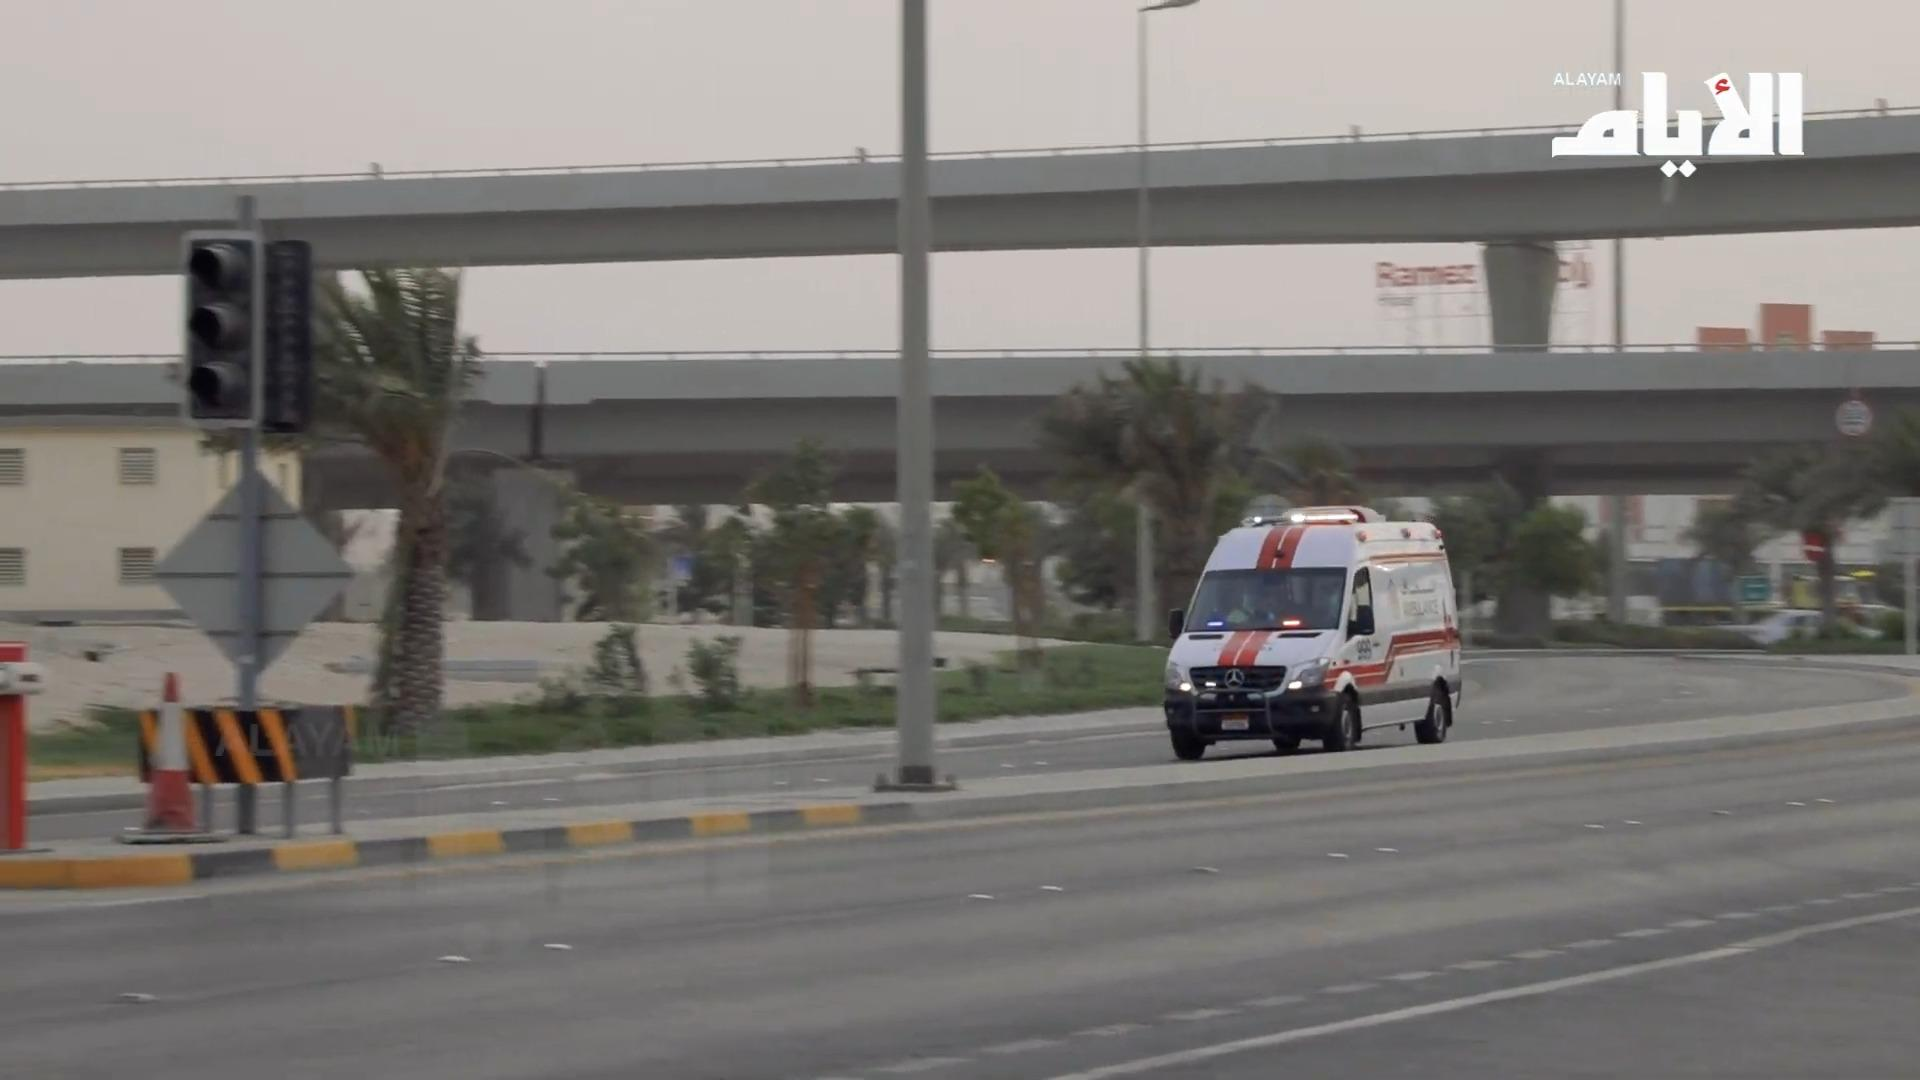ambulance_on: (1164, 502, 1461, 758)
